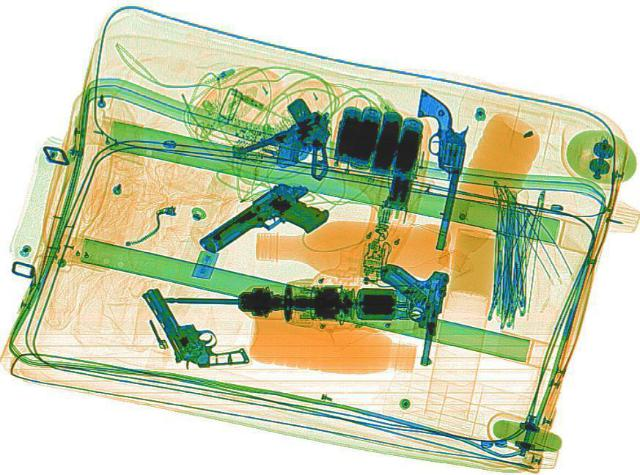Gun: (189, 174, 341, 275), (389, 87, 477, 250), (227, 109, 365, 197), (137, 273, 250, 376), (368, 261, 450, 364)
